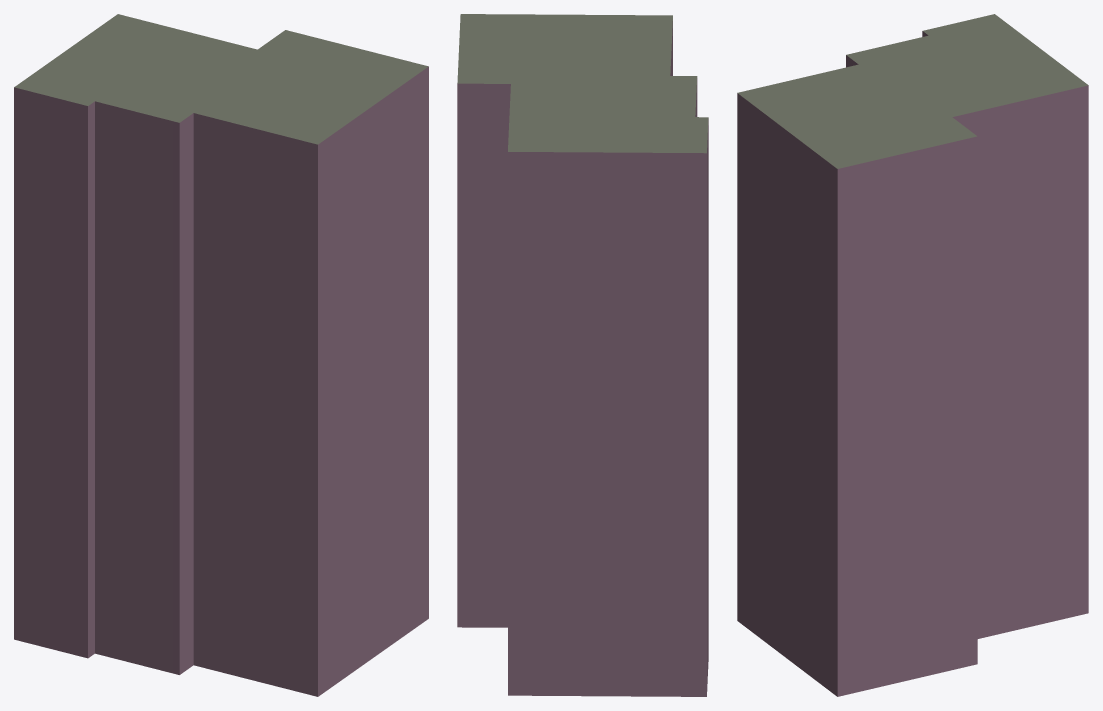
File: nyc-1022667-0.glb
The picture shows the model from 3 angles, left to right: view 1: azimuth 30°, elevation 25°; view 2: azimuth 150°, elevation 25°; view 3: azimuth 270°, elevation 25°; orthographic projection. The views are drawn at different scales.
Parts seen in each view (by area): view 1: nyc-1022667-0; view 2: nyc-1022667-0; view 3: nyc-1022667-0.
Boxes of the visible parts, x1,y1,x2,y2 form: nyc-1022667-0: [14, 14, 428, 696]; nyc-1022667-0: [457, 14, 708, 696]; nyc-1022667-0: [737, 14, 1088, 696].
Bounding box in the file's own units: 71.18 × 113 × 68.2.
